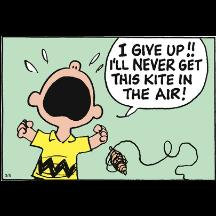charlie: (15, 58, 109, 180)
